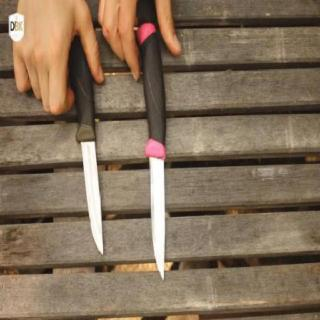knife: (42, 60, 110, 258), (142, 106, 172, 286)
